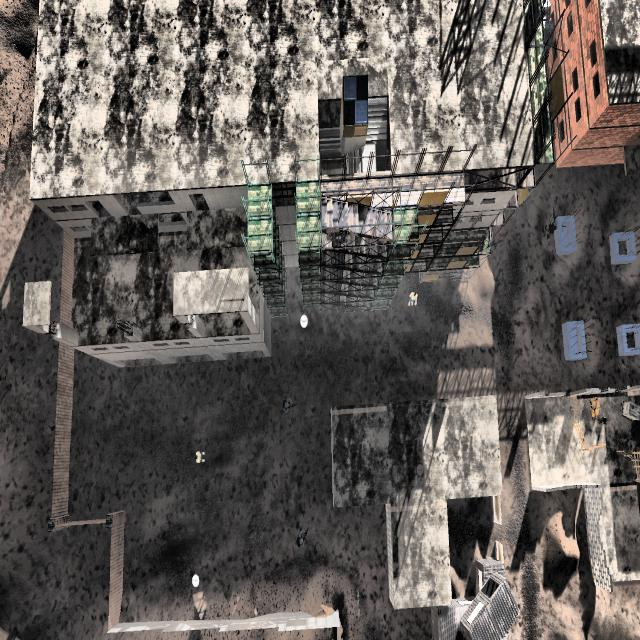bad: (543, 206, 563, 249), (277, 386, 297, 424), (294, 524, 309, 555)
good: (191, 442, 210, 478), (406, 284, 422, 313)
